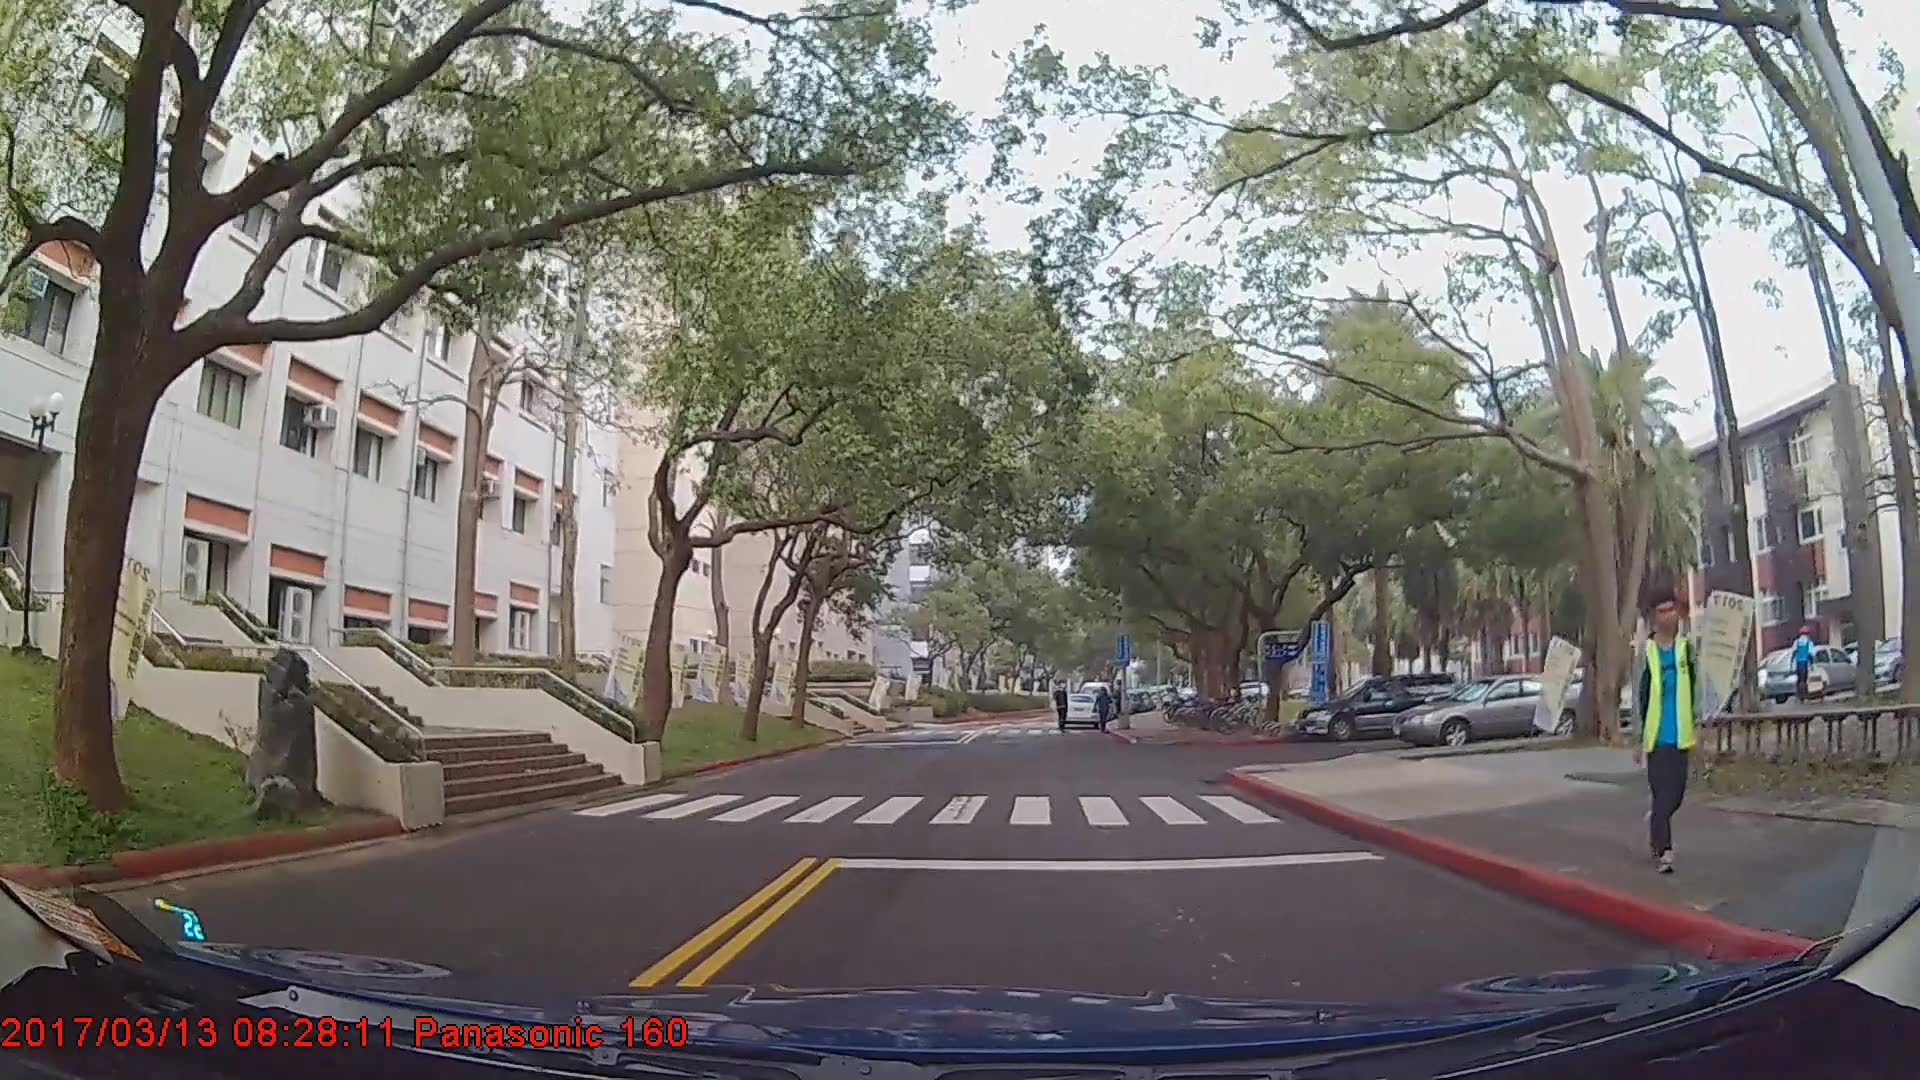pedestrian: (1628, 581, 1707, 870), (1784, 617, 1819, 709), (1052, 685, 1072, 735), (1094, 686, 1114, 735)
vehicle: (1392, 670, 1596, 746), (1296, 669, 1463, 738), (1765, 640, 1860, 699), (1056, 691, 1101, 728)
